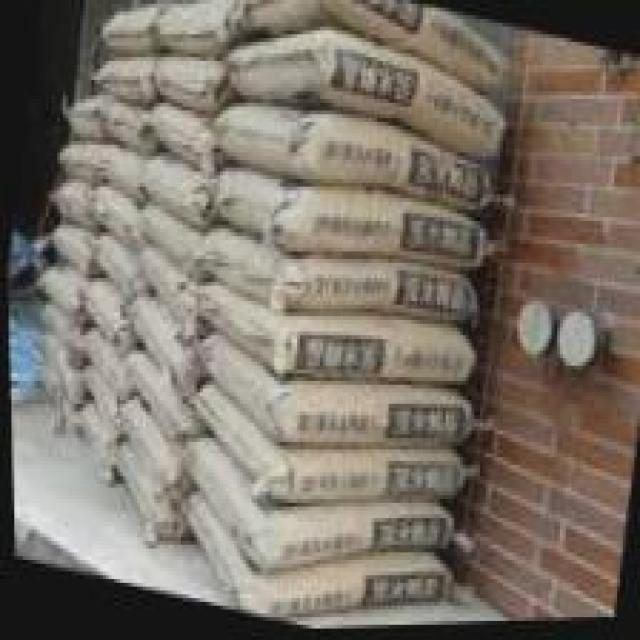gunny_bag: (175, 431, 465, 578), (220, 29, 507, 166), (175, 492, 460, 623), (184, 381, 470, 508), (201, 98, 497, 219), (191, 330, 478, 450), (199, 164, 495, 277), (191, 281, 477, 394), (194, 222, 480, 330), (229, 0, 509, 100), (106, 438, 189, 550), (114, 398, 194, 510), (117, 345, 193, 451), (120, 294, 197, 397), (130, 199, 208, 283), (136, 151, 210, 234), (135, 244, 199, 335), (147, 52, 230, 122), (58, 92, 148, 154), (145, 1, 233, 61), (144, 100, 212, 174), (73, 322, 130, 403), (82, 183, 138, 259), (81, 231, 135, 302), (80, 143, 140, 206), (73, 276, 122, 352), (75, 363, 120, 444), (35, 356, 72, 441), (29, 262, 81, 321), (39, 332, 82, 403), (89, 56, 151, 104), (71, 398, 109, 476), (96, 7, 156, 56), (35, 301, 79, 361), (48, 180, 91, 235), (52, 137, 100, 185), (45, 220, 85, 275)
